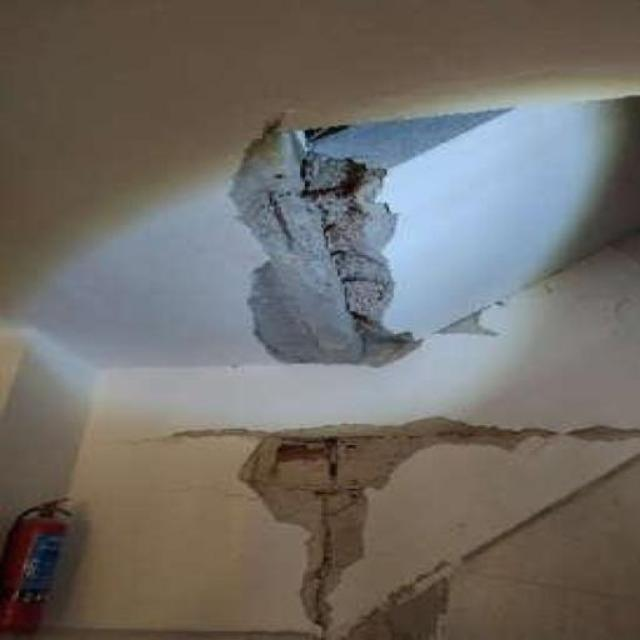D0w0: (226, 110, 473, 366), (238, 426, 445, 639)
